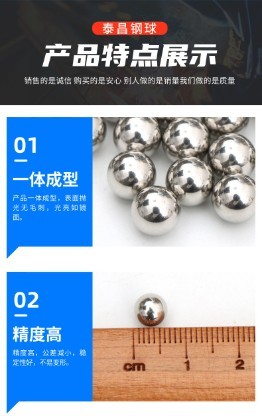ironball: (130, 185, 181, 235), (106, 149, 156, 200), (165, 155, 214, 206), (161, 116, 210, 162), (211, 172, 255, 223), (207, 132, 255, 178), (112, 116, 161, 156), (134, 292, 167, 326), (201, 116, 249, 137), (92, 116, 106, 152), (154, 116, 177, 128), (102, 116, 122, 122)
